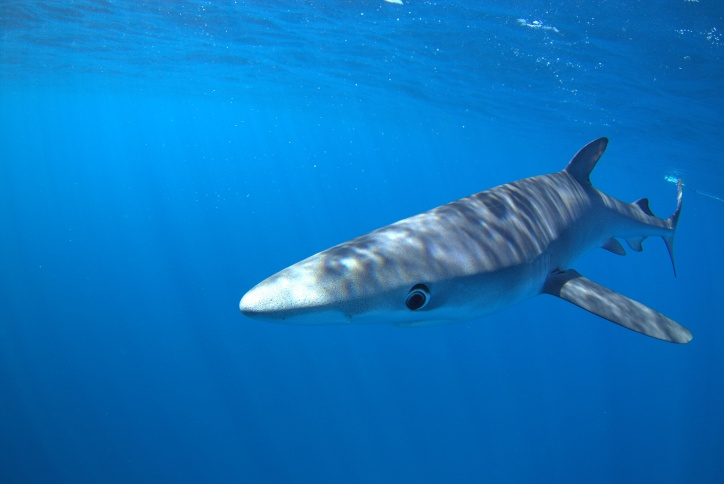Azul: (227, 125, 701, 353)
